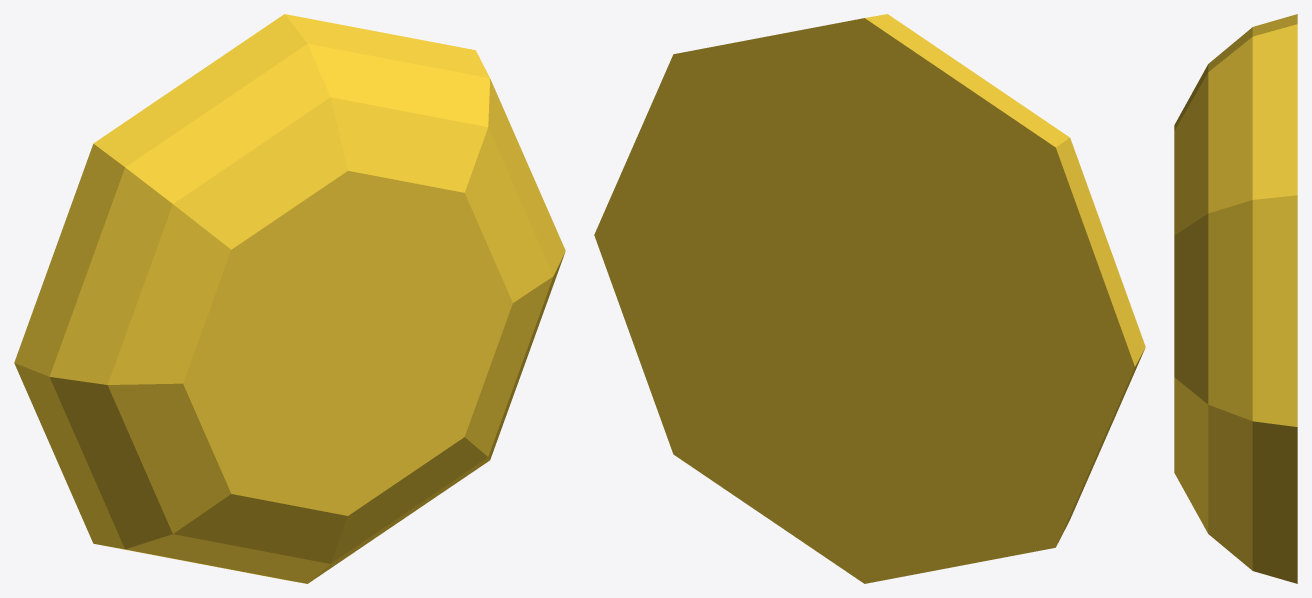
Rendered from Bell.fbx.
The picture shows the model from 3 angles, left to right: view 1: azimuth 30°, elevation 25°; view 2: azimuth 150°, elevation 25°; view 3: azimuth 270°, elevation 25°; orthographic projection. The views are drawn at different scales.
Parts seen in each view (by area): view 1: HighStrikeBell; view 2: HighStrikeBell; view 3: HighStrikeBell.
Part boxes in pixels (box(x1,y1,x2,y2)): HighStrikeBell: box(14, 14, 565, 583); HighStrikeBell: box(594, 14, 1145, 583); HighStrikeBell: box(1174, 14, 1297, 583).
Bounding box in the file's own units: 0.3881 × 0.3881 × 0.0788.
1 material, 1 textured.
